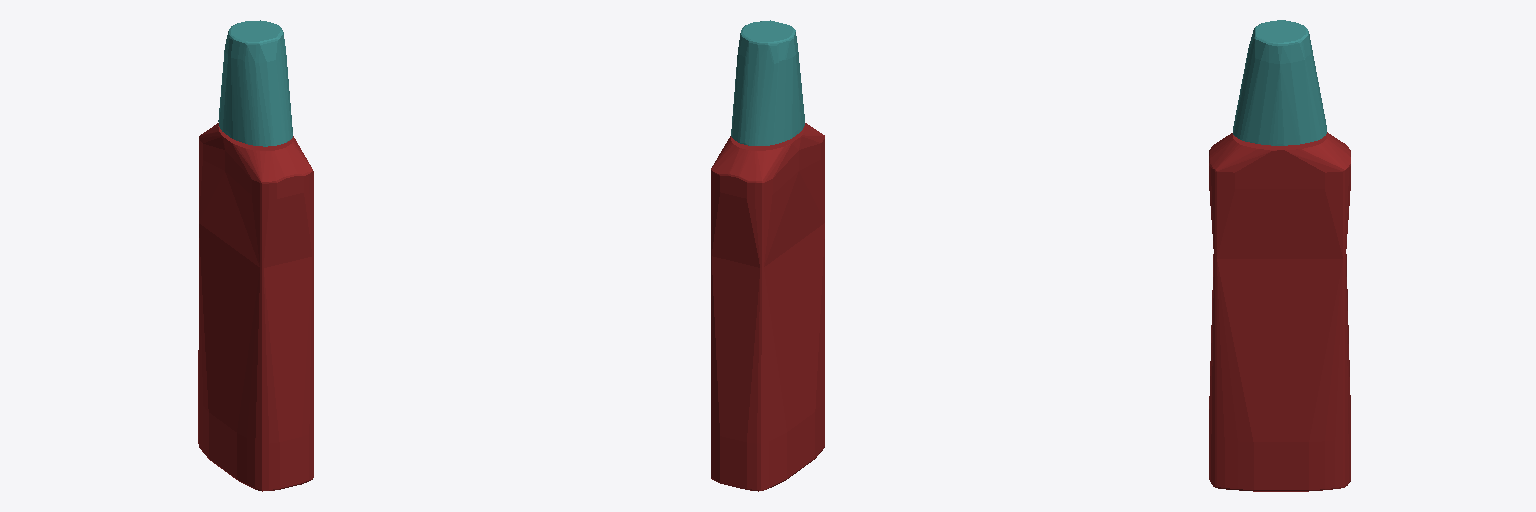
robot.urdf — root:
<robot name="root">
  <link name="bottle_body">
    <inertial>
      <origin xyz="0 0 0" rpy="0 0 0"/>
    </inertial>
    <mass value="1.00E-02"/>
    <visual>
      <origin xyz="0 0 0" rpy="0 0 0"/>
      <geometry>
        <mesh filename="core-bottle-c771267feb7ee16761d12ece735ab44-coacd_convex_piece_0.obj" scale="1.0000E-01 1.0000E-01 1.0000E-01"/>
      </geometry>
      <material name="">
        <color rgba="6.00E-01 2.00E-01 2.00E-01 1"/>
      </material>
    </visual>
    <collision>
      <origin xyz="0 0 0" rpy="0 0 0"/>
      <geometry>
        <mesh filename="core-bottle-c771267feb7ee16761d12ece735ab44-coacd_convex_piece_0.obj" scale="1.0000E-01 1.0000E-01 1.0000E-01"/>
      </geometry>
    </collision>
    <visual>
      <origin xyz="0 0 0" rpy="0 0 0"/>
      <geometry>
        <mesh filename="core-bottle-c771267feb7ee16761d12ece735ab44-coacd_convex_piece_2.obj" scale="1.0000E-01 1.0000E-01 1.0000E-01"/>
      </geometry>
      <material name="">
        <color rgba="6.00E-01 2.00E-01 2.00E-01 1"/>
      </material>
    </visual>
    <collision>
      <origin xyz="0 0 0" rpy="0 0 0"/>
      <geometry>
        <mesh filename="core-bottle-c771267feb7ee16761d12ece735ab44-coacd_convex_piece_2.obj" scale="1.0000E-01 1.0000E-01 1.0000E-01"/>
      </geometry>
    </collision>
  </link>
  <link name="bottle_cap">
    <origin xyz="0 0 0.002" rpy="0 0 0"/>
    <mass value="1.00E-02"/>
    <visual>
      <origin xyz="0 0 0.002" rpy="0 0 0"/>
      <geometry>
        <mesh filename="core-bottle-c771267feb7ee16761d12ece735ab44-coacd_convex_piece_1.obj" scale="1.0000E-01 1.0000E-01 1.0000E-01"/>
      </geometry>
      <material name="">
        <color rgba="3.00E-01 6.00E-01 6.00E-01 1"/>
      </material>
    </visual>
    <collision>
      <origin xyz="0 0 0.002" rpy="0 0 0"/>
      <geometry>
        <mesh filename="core-bottle-c771267feb7ee16761d12ece735ab44-coacd_convex_piece_1.obj" scale="1.0000E-01 1.0000E-01 1.0000E-01"/>
      </geometry>
    </collision>
  </link>
  <joint name="bottle_cap_joint" type="revolute">
    <origin xyz="0 0 0" rpy="0 0 0"/>
    <parent link="bottle_body"/>
    <child link="bottle_cap"/>
    <axis xyz="0 0 1"/>
    <limit lower="0.00" upper="6.28"/>
    <dynamics damping="0.05"/>
  </joint>
</robot>

--- Facts derived from the render (not from the file) ---
3 views of the same robot in one strip: view 1: azimuth 30°, elevation 25°; view 2: azimuth 150°, elevation 25°; view 3: azimuth 270°, elevation 25° (orthographic).
Robot: root — 2 links, 1 joints (1 revolute); root link bottle_body; default pose: every joint at zero.
Links seen in each view (by area): view 1: bottle_body, bottle_cap; view 2: bottle_body, bottle_cap; view 3: bottle_body, bottle_cap.
Link boxes in pixels (<box>): bottle_body: <box>198,123,313,491</box>; bottle_cap: <box>218,20,292,146</box>; bottle_body: <box>711,123,824,491</box>; bottle_cap: <box>731,20,804,145</box>; bottle_body: <box>1209,132,1350,491</box>; bottle_cap: <box>1233,20,1326,145</box>.
Size in the robot's own frame: 0.0307 by 0.0552 by 0.19 metres.
3 mesh visuals loaded from 3 distinct referenced files (3 OBJ).